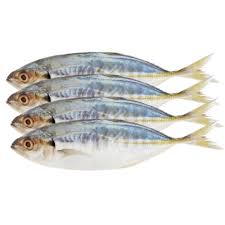Ikan Selar: (8, 123, 218, 171), (4, 48, 218, 87), (5, 78, 215, 112), (9, 104, 217, 134)
